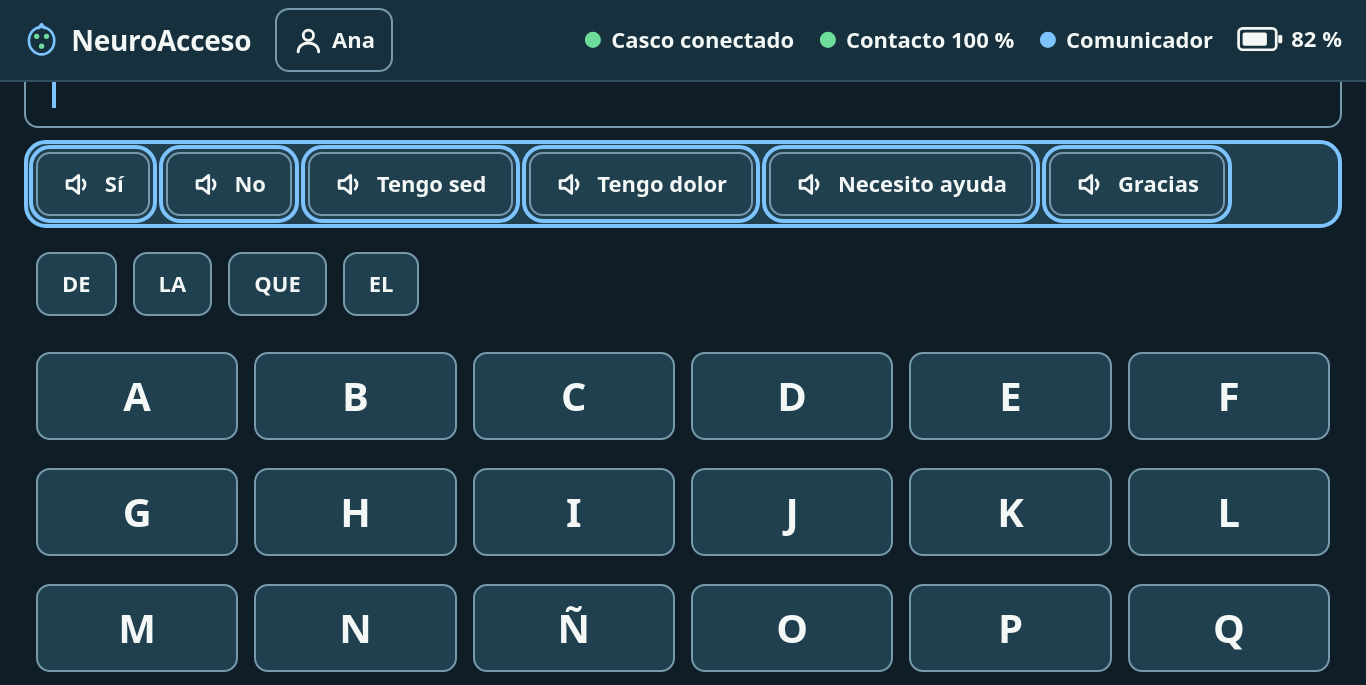
Test: escribir y hablar › las sugerencias completan la palabra
(page scrolled)
Click the button "A". click: click(137, 396)
box: [36, 352, 238, 440]
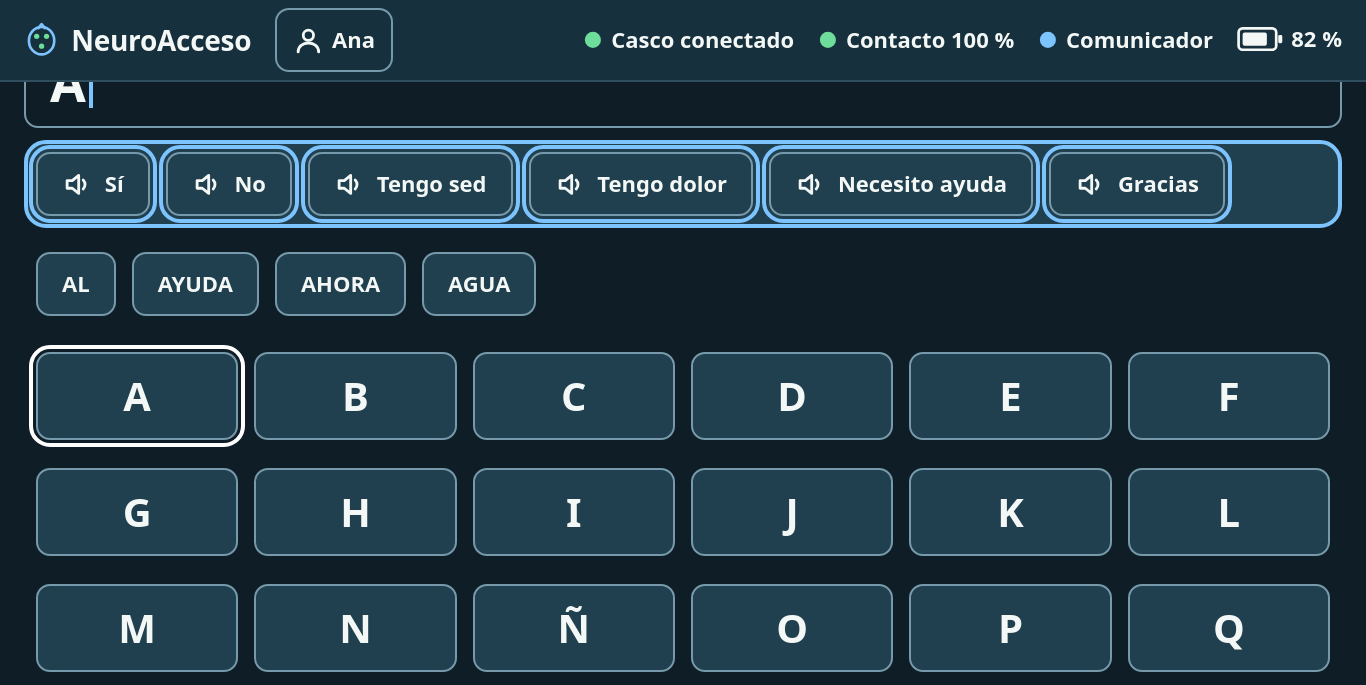
Click the button "G". click: click(137, 512)
box: [36, 468, 238, 556]
(page scrolled)
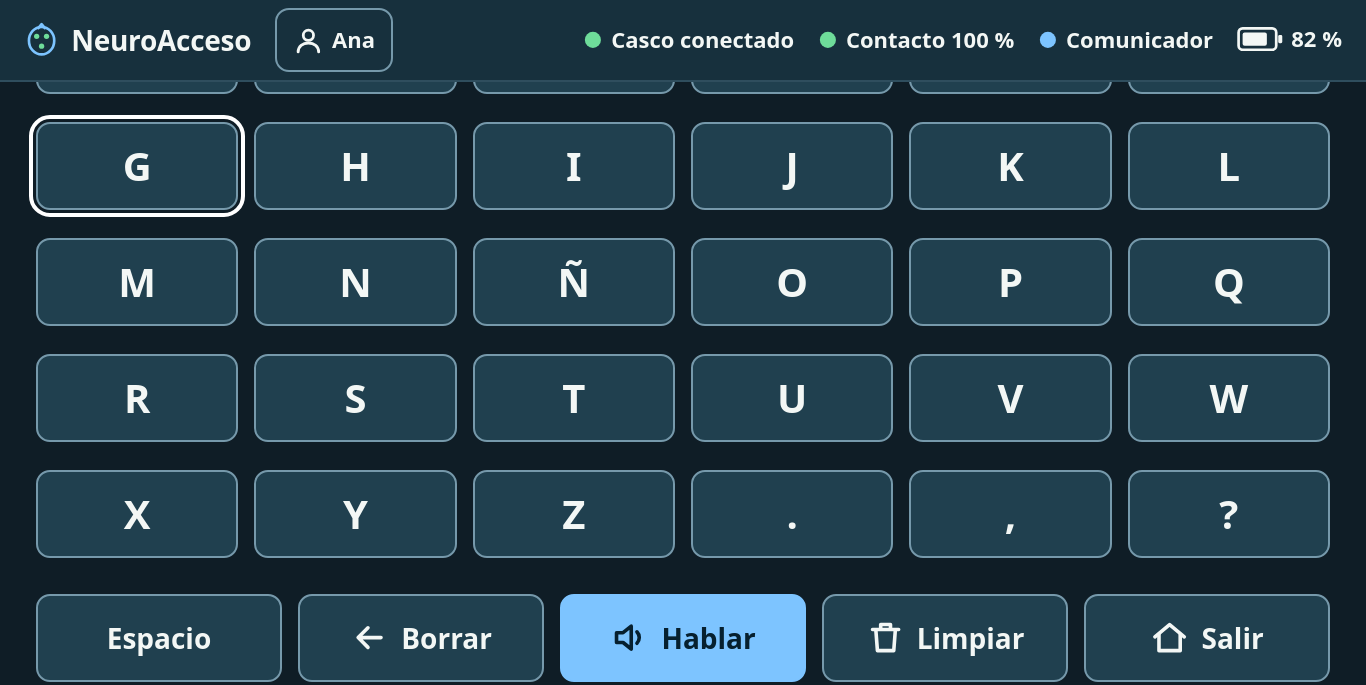
Click the button "U". click: click(792, 398)
box: [691, 354, 893, 442]
(page scrolled)
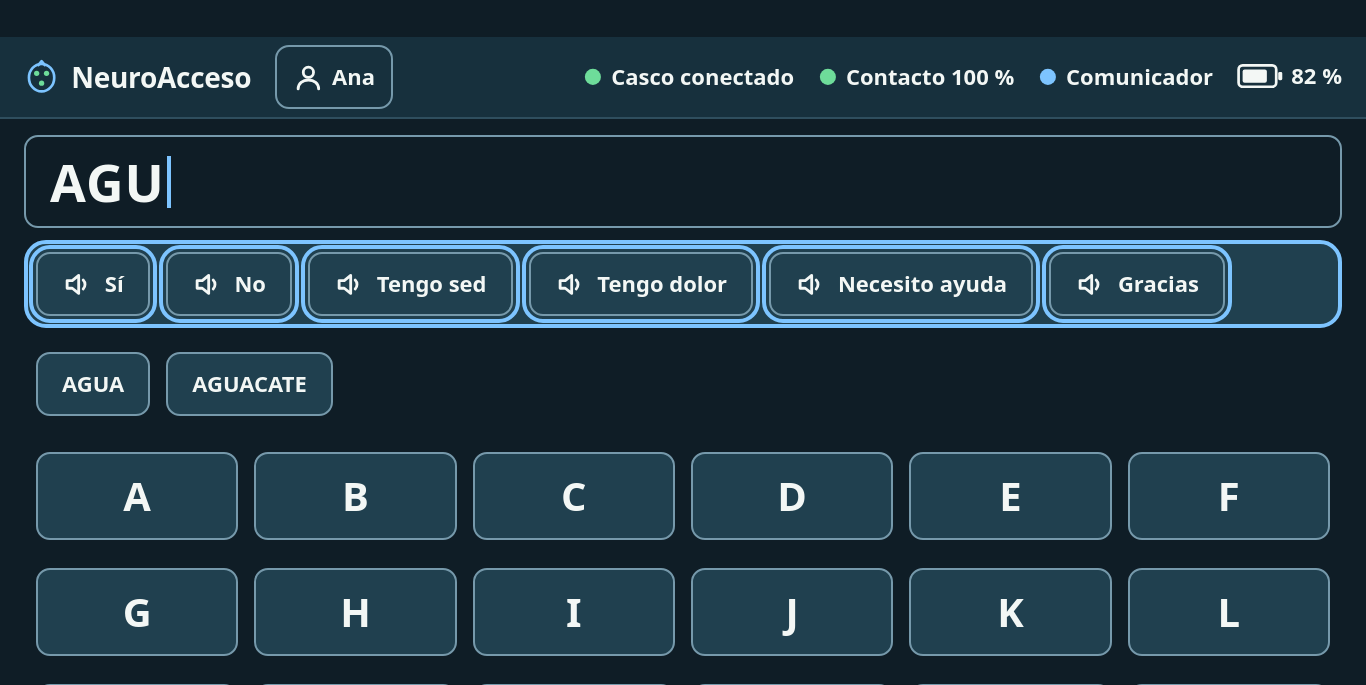
Click the button "AGUA". click: click(93, 384)
box: [36, 352, 150, 416]
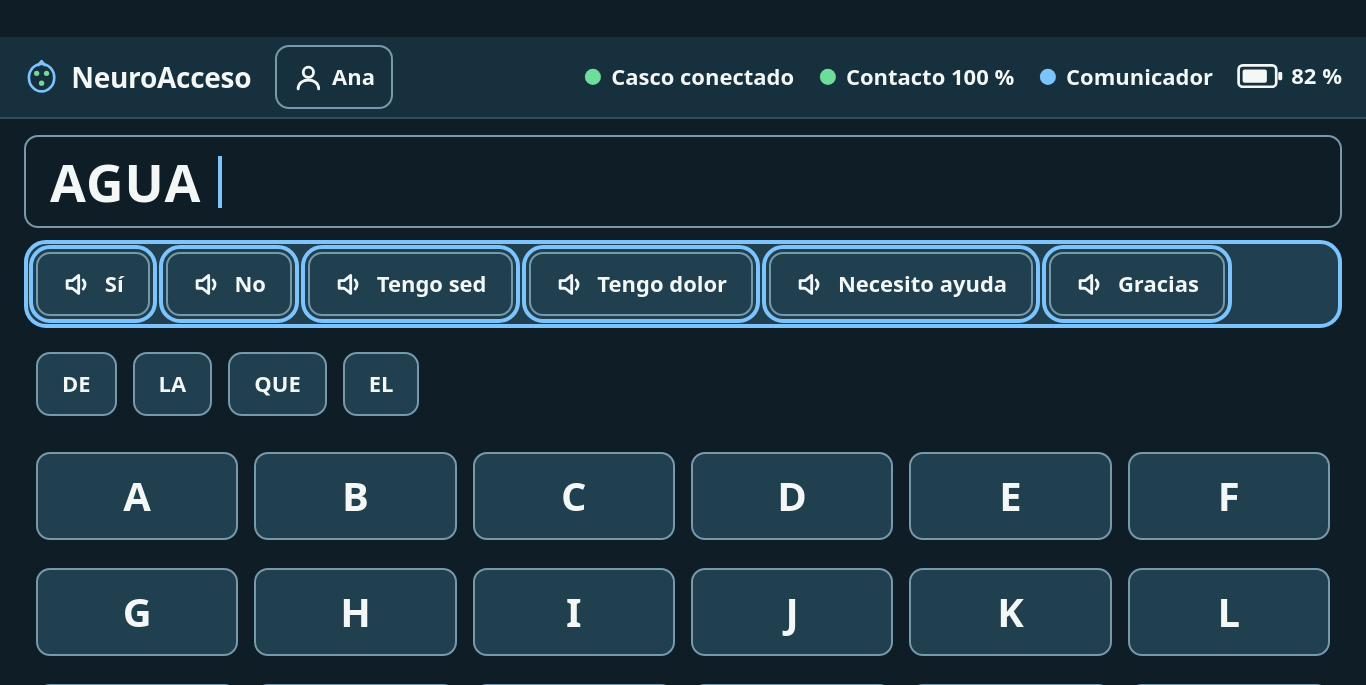
Check: the element named "Texto escrito" reads "AGUA", box [50, 146, 216, 217]
